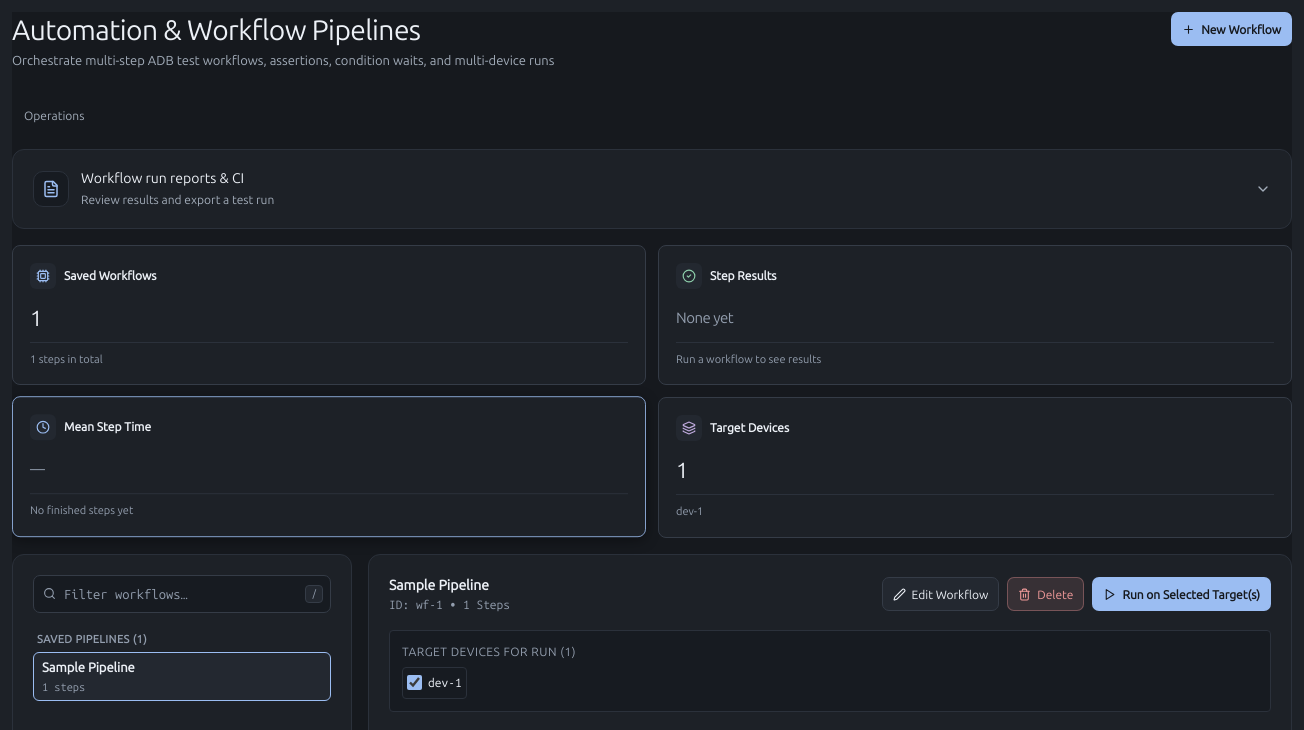
Test: AutomationPage Step Parameter Accordion › allows expanding and collapsing steps
The width and height of the screenshot is (1304, 730).
Click the button "New Workflow".
click(1232, 29)  # box [1171,12,1292,46]
(page scrolled)
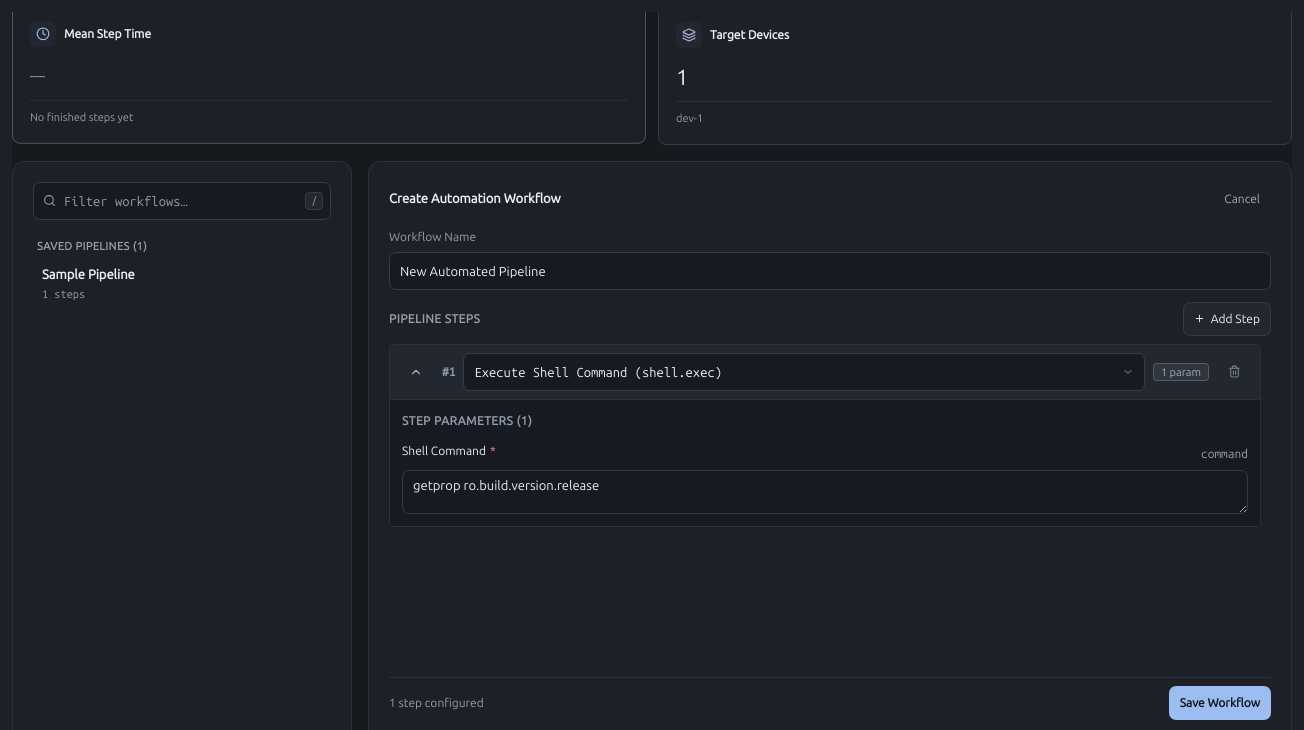
Expected: the text "Step Parameters (1)" is shown, [402,414,532,427]
# Collapse step #1
Click the button named "collapse step 1".
click(416, 372)  # box [398,355,434,389]
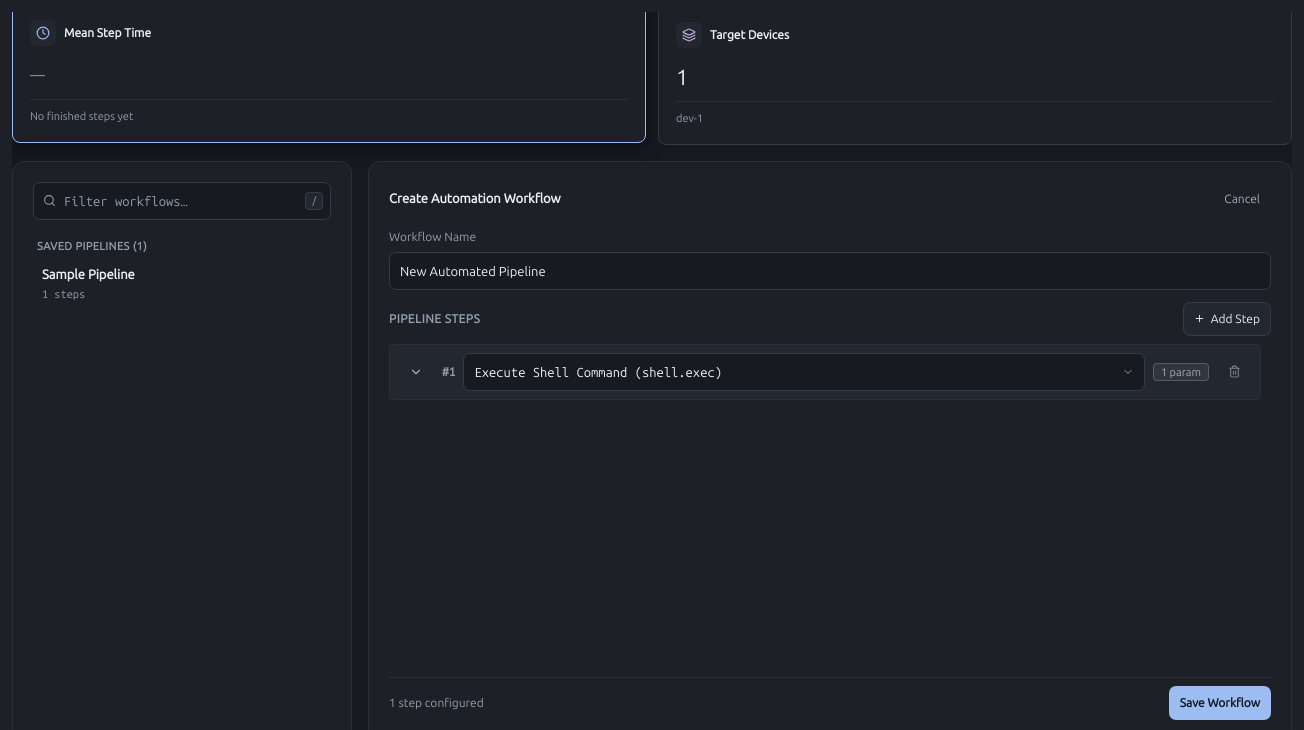
Expected: the text "Step Parameters (1)" is gone
# Re-expand step #1
Click the button named "expand step 1".
click(416, 372)  # box [398,355,434,389]
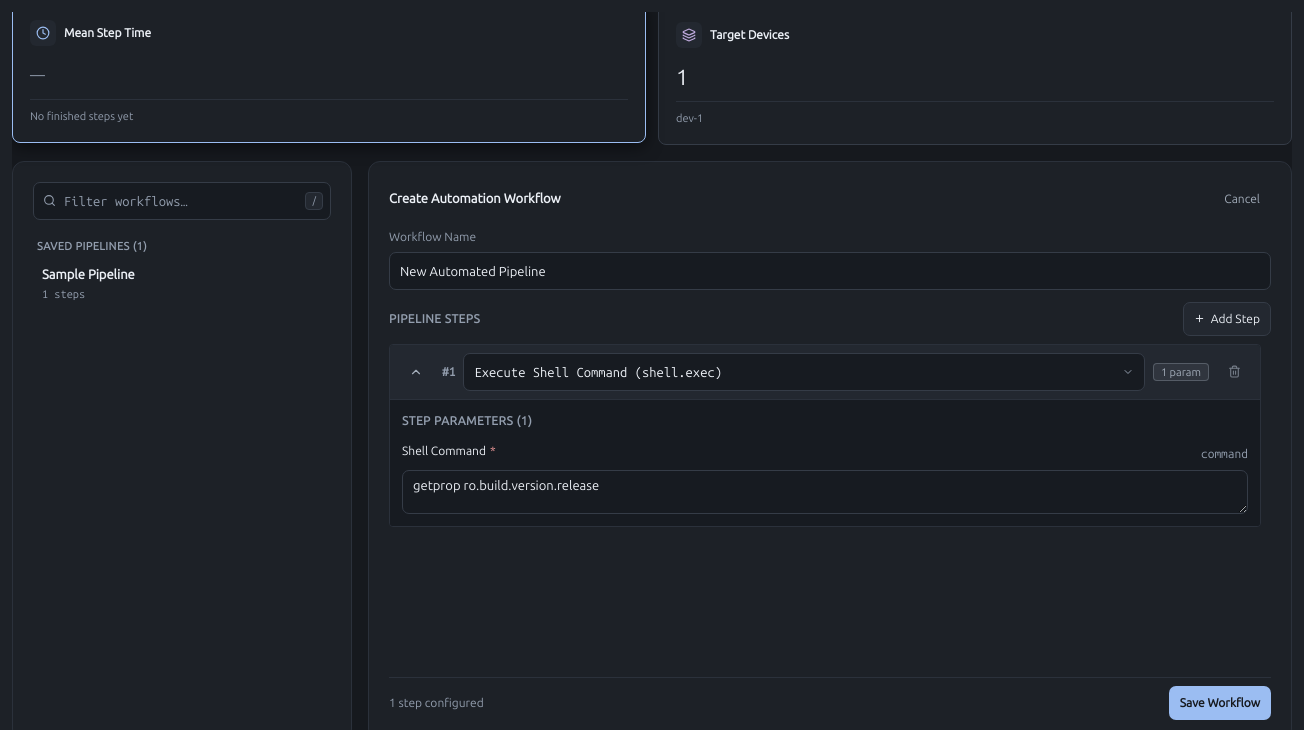
Expected: the text "Step Parameters (1)" is shown, [402,414,532,427]
